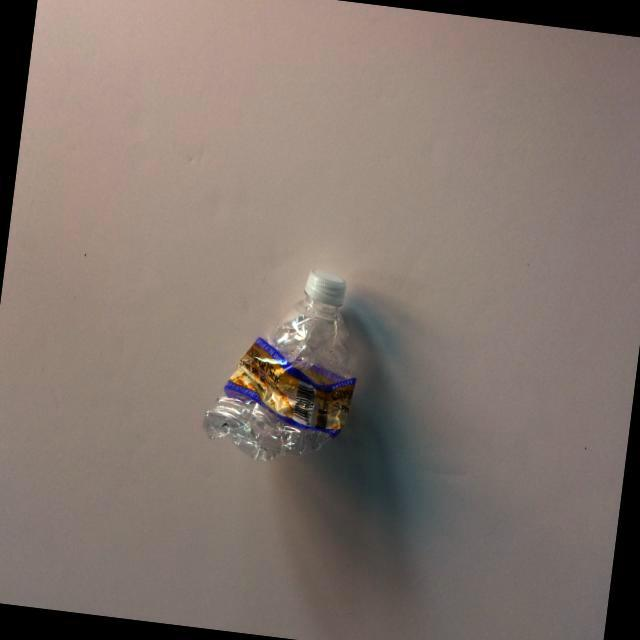plastic: (185, 248, 394, 506)
